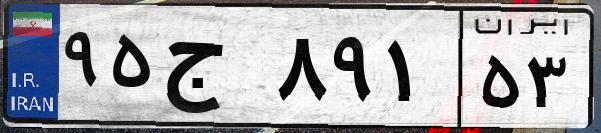1: (385, 28, 445, 110)
3: (525, 38, 570, 115)
5: (475, 38, 525, 113), (110, 28, 158, 98)
8: (270, 28, 330, 110)
9: (330, 28, 385, 110), (57, 26, 110, 100)
ج: (158, 20, 270, 120)
